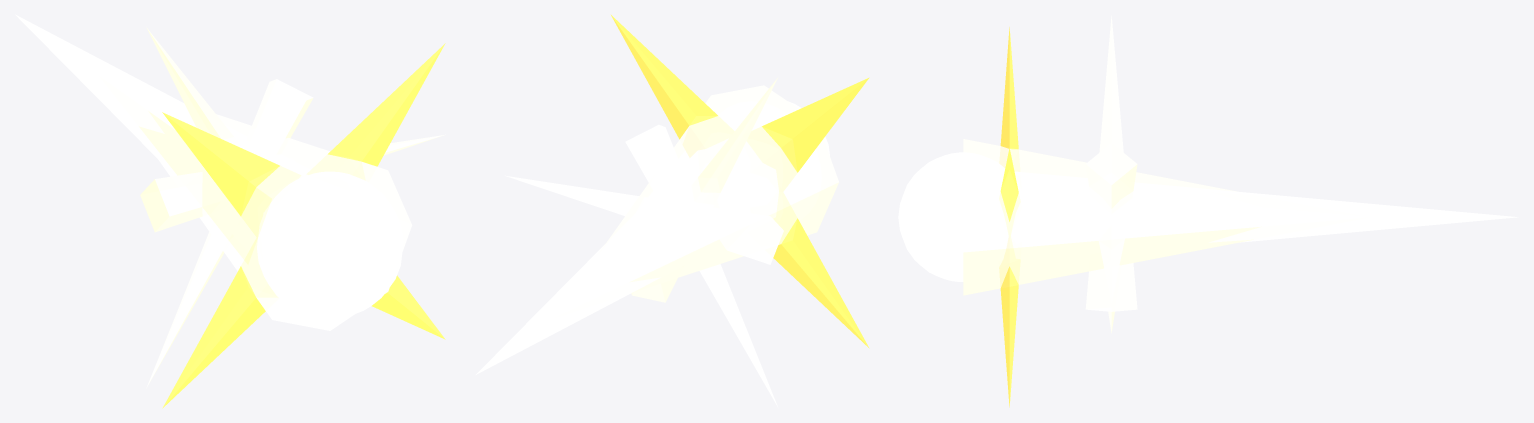
The model's file is muzzle_flash.glb.
3 renders of one model, left to right at view 1: azimuth 30°, elevation 25°; view 2: azimuth 150°, elevation 25°; view 3: azimuth 270°, elevation 25°, orthographic. The views are drawn at different scales.
Parts seen in each view (by area): view 1: core, jet, jet_core, petal_1, spike_2, petal_2, petal_0, spike_0, spike_1, petal_3; view 2: jet, jet_core, petal_1, spike_2, spike_0, petal_0, petal_2, spike_1, core; view 3: jet, jet_core, core, spike_1, spike_2, petal_3, petal_1, spike_0, petal_0.
Part boxes in pixels (box(x1,y1,x2,y2)): core: box(257, 172, 403, 318); jet: box(138, 102, 412, 330); jet_core: box(15, 14, 309, 249); petal_1: box(162, 112, 300, 236); spike_2: box(146, 79, 313, 388); petal_2: box(162, 238, 276, 408); petal_0: box(307, 43, 445, 179); spike_0: box(140, 134, 445, 232); spike_1: box(146, 27, 240, 146); petal_3: box(372, 275, 445, 339); jet: box(598, 85, 838, 292); jet_core: box(476, 139, 778, 374); petal_1: box(747, 77, 869, 191); spike_2: box(625, 124, 777, 406); spike_0: box(505, 175, 783, 264); petal_0: box(611, 15, 733, 156); petal_2: box(773, 192, 869, 348); spike_1: box(631, 78, 777, 302); core: box(718, 101, 829, 220); jet: box(963, 139, 1261, 295); jet_core: box(1003, 171, 1518, 261); core: box(898, 152, 1007, 281); spike_1: box(1085, 15, 1137, 311); spike_2: box(1085, 143, 1137, 333); petal_3: box(999, 237, 1019, 407); petal_1: box(1000, 27, 1019, 171); spike_0: box(1097, 220, 1125, 302); petal_0: box(999, 148, 1019, 236).
Bounding box in the file's own units: 0.1878 × 0.1905 × 0.335.
